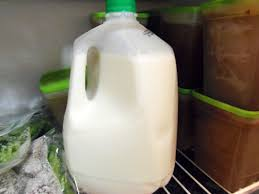milk: (69, 1, 178, 192)
